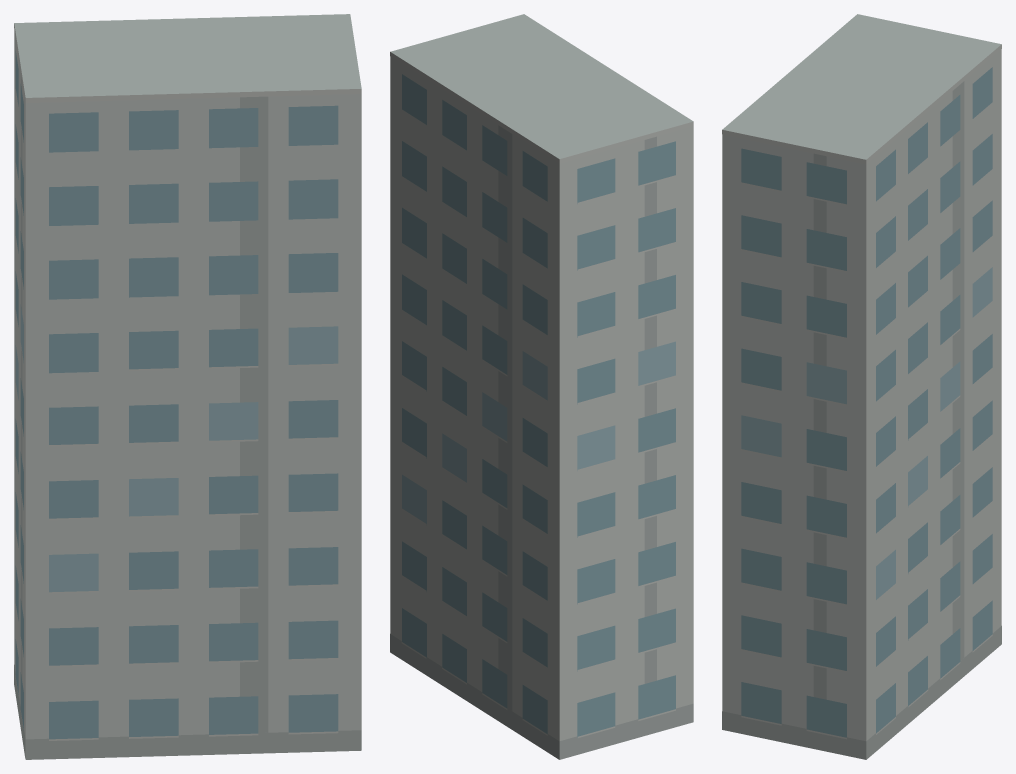
Rendered from residential-b69ad4e1-c534-4ce7-b49a-e8282cc5a60d.glb.
The picture shows the model from 3 angles, left to right: view 1: azimuth 30°, elevation 25°; view 2: azimuth 150°, elevation 25°; view 3: azimuth 270°, elevation 25°; orthographic projection. The views are drawn at different scales.
Visible parts, largest first — view 1: residential-b69ad4e1-c534-4ce7-b49a-e8282cc5a60d.tmp; view 2: residential-b69ad4e1-c534-4ce7-b49a-e8282cc5a60d.tmp; view 3: residential-b69ad4e1-c534-4ce7-b49a-e8282cc5a60d.tmp.
Boxes of the visible parts, x1,y1,x2,y2 form: residential-b69ad4e1-c534-4ce7-b49a-e8282cc5a60d.tmp: (14, 14, 361, 759); residential-b69ad4e1-c534-4ce7-b49a-e8282cc5a60d.tmp: (390, 14, 693, 759); residential-b69ad4e1-c534-4ce7-b49a-e8282cc5a60d.tmp: (722, 14, 1001, 759).
Bounding box in the file's own units: 16.16 × 31 × 13.1.
